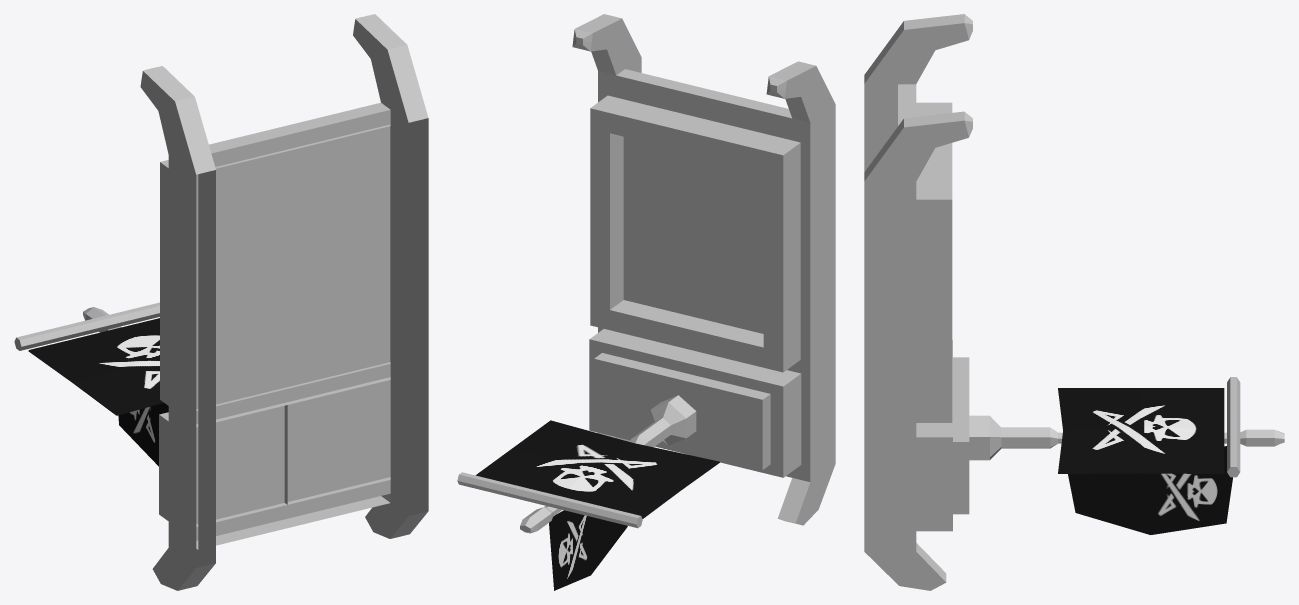
Rendered from ship_tax.fbx.
3 renders of one model, left to right at view 1: azimuth 30°, elevation 25°; view 2: azimuth 150°, elevation 25°; view 3: azimuth 270°, elevation 25°, orthographic. The views are drawn at different scales.
Visible parts, largest first — view 1: Cube.633; view 2: Cube.633; view 3: Cube.633.
Part boxes in pixels (x1=…): Cube.633: x1=14, y1=14, x2=428, y2=590; Cube.633: x1=457, y1=14, x2=835, y2=590; Cube.633: x1=864, y1=14, x2=1284, y2=590.
Size of the model in its own units: 362 by 745 by 604.
